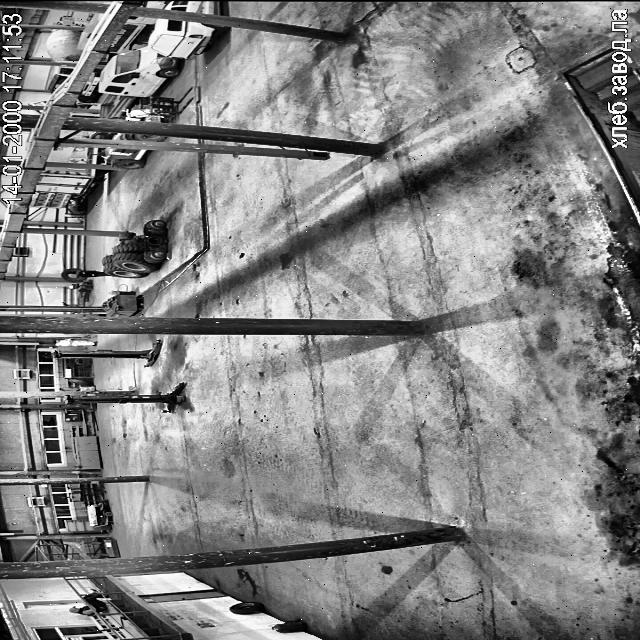class4: (68, 591, 106, 616), (55, 339, 97, 346), (74, 270, 109, 277)
class7: (99, 47, 180, 116), (28, 166, 107, 207), (148, 20, 228, 59), (108, 16, 156, 52), (111, 97, 177, 122), (98, 144, 147, 168), (46, 148, 100, 164), (78, 14, 103, 48), (89, 132, 164, 142), (45, 66, 73, 92), (166, 0, 219, 13), (76, 76, 100, 104), (140, 0, 164, 8), (60, 130, 88, 136), (31, 100, 44, 104), (27, 132, 32, 141), (61, 132, 68, 135), (26, 142, 29, 148), (28, 111, 37, 112)
tractor: (272, 619, 306, 632)
truck: (65, 383, 185, 412), (52, 340, 161, 366)
